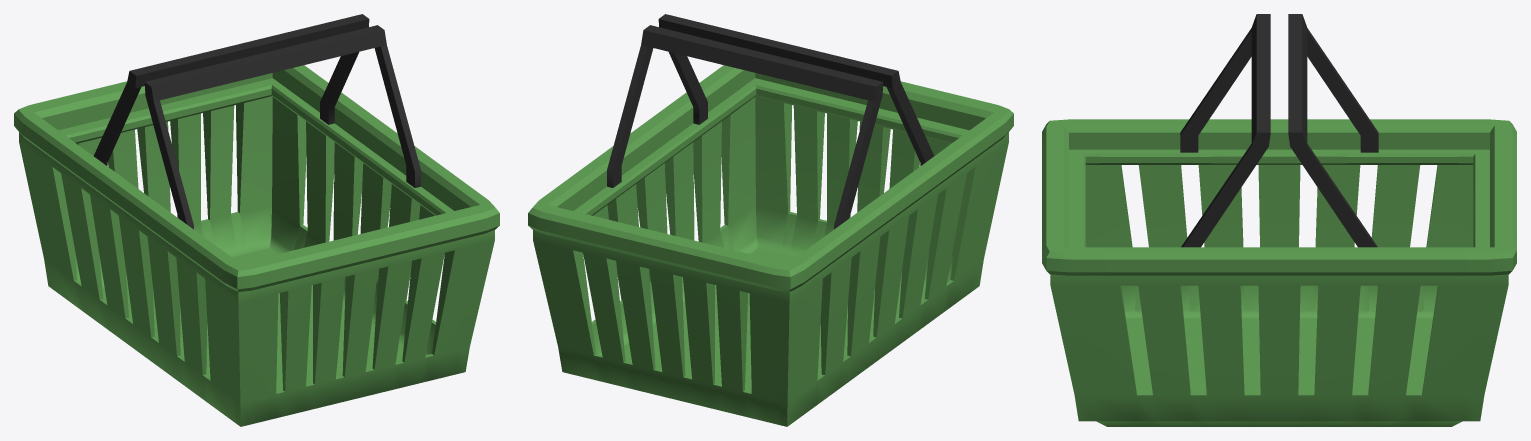
Rendered from Basket.fbx.
3 views of the same model, side by side, from view 1: azimuth 30°, elevation 25°; view 2: azimuth 150°, elevation 25°; view 3: azimuth 270°, elevation 25° (orthographic). The views are drawn at different scales.
Visible parts, largest first — view 1: pCube43; view 2: pCube43; view 3: pCube43.
Part boxes in pixels (x1=…): pCube43: x1=14, y1=14, x2=499, y2=426; pCube43: x1=528, y1=14, x2=1013, y2=426; pCube43: x1=1042, y1=14, x2=1516, y2=426.
Bounding box in the file's own units: 1.44 × 1.49 × 2.11.
Materials: 1 (1 with a texture image).
